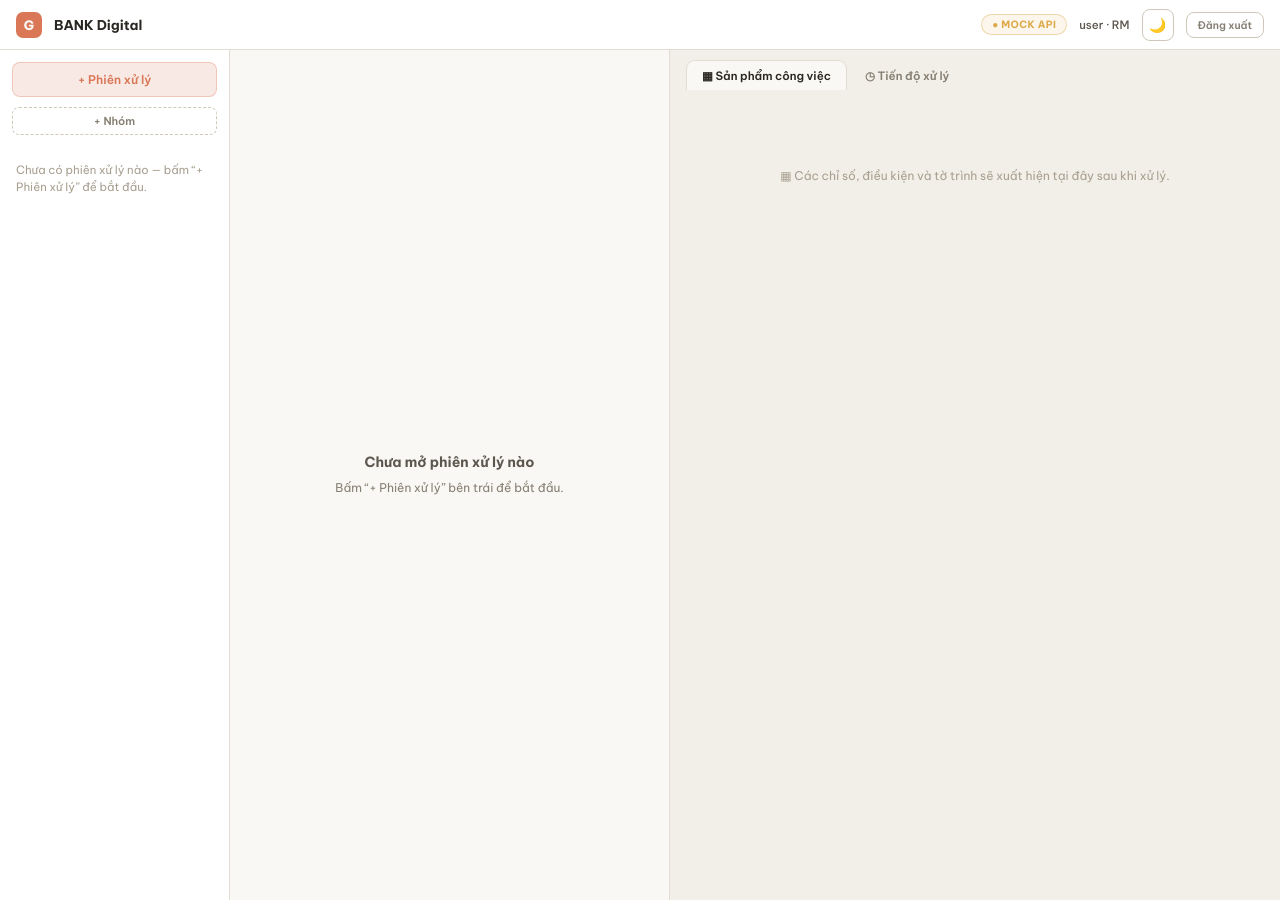
Scenario: Workspace chat — vòng lõi S1 (mock API) › bước tổng hợp fail → lỗi nghiệp vụ + trạng thái "Lỗi", không lộ lỗi runtime
Click the button "+ Phiên xử lý": (114, 80) [12,62,217,97]
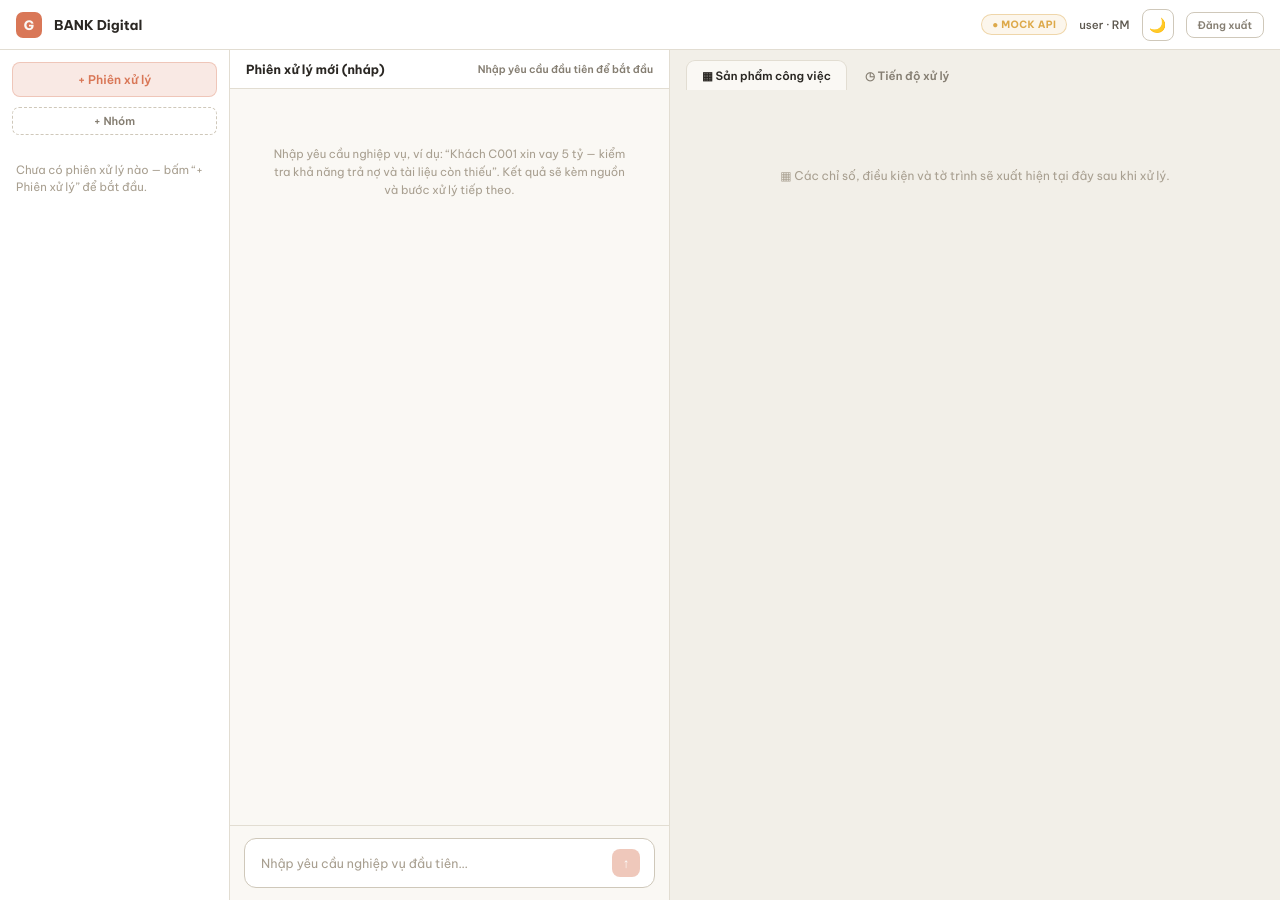
In the field named "Ô nhập câu hỏi": (430, 863) [259,854,602,872], type "lỗi main mô phỏng quá tải"
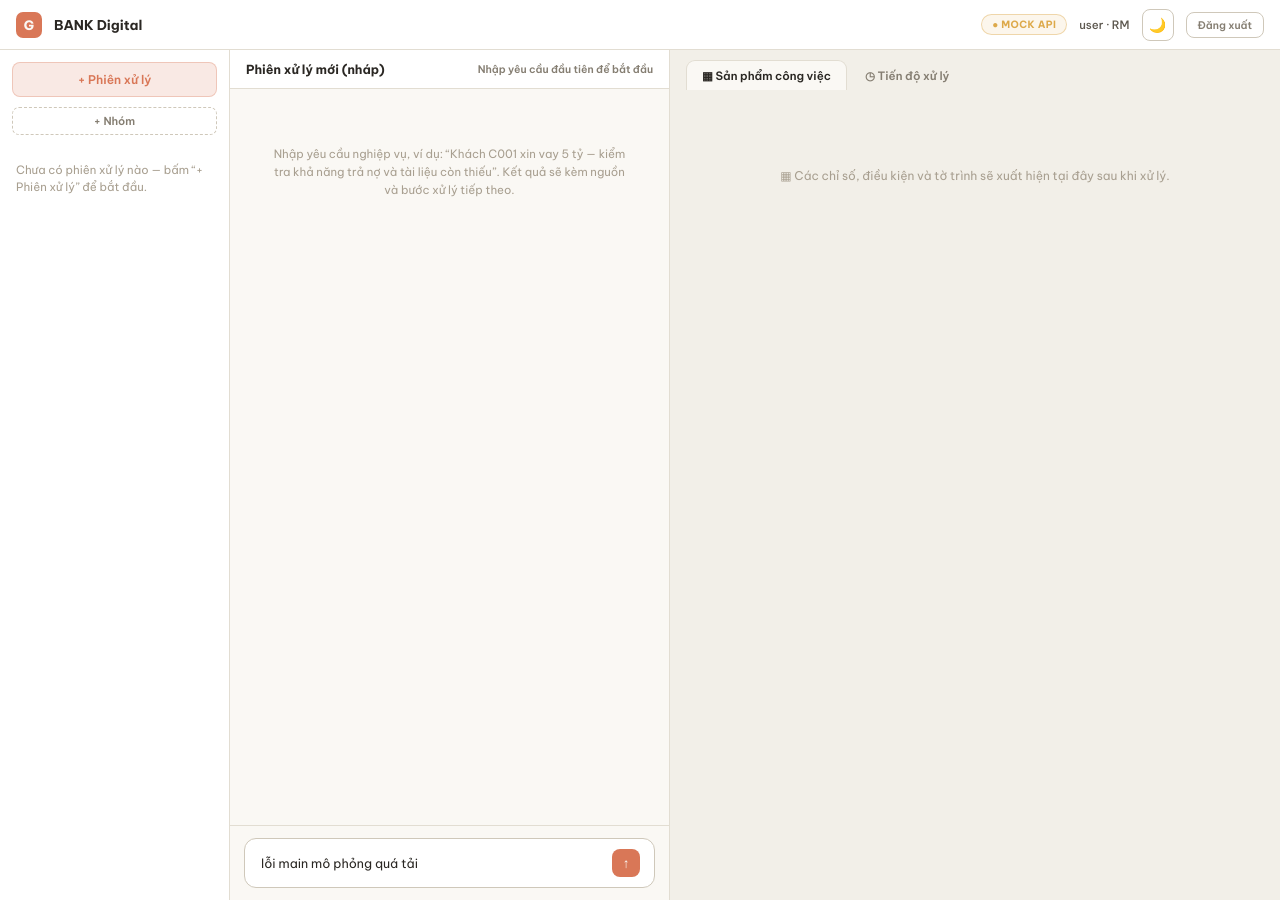
Press Enter in the field named "Ô nhập câu hỏi", box [259,854,602,872]
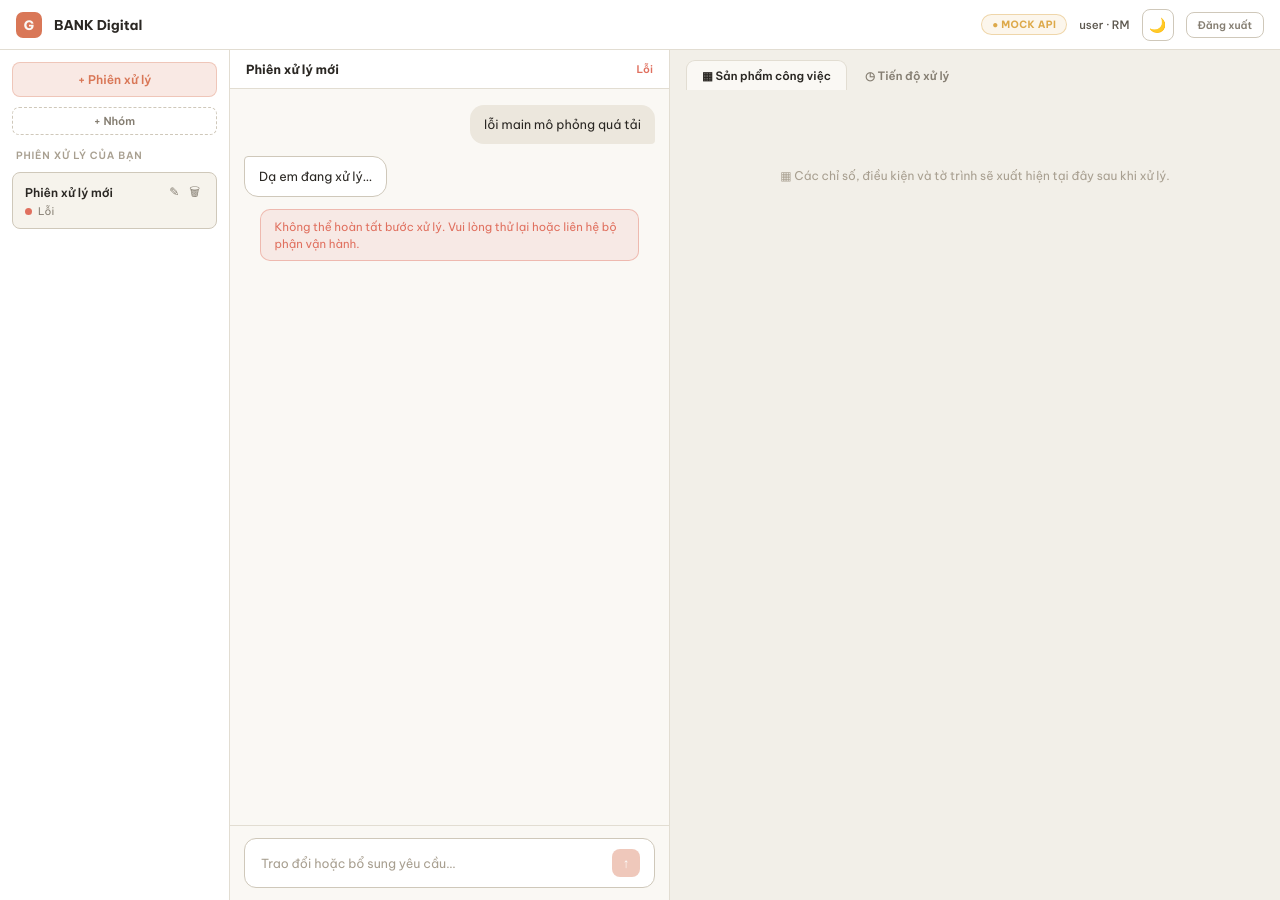
Check: the text "Không thể hoàn tất bước xử lý" is shown, box [274,218,619,251]
Check: the text "Lỗi" is shown, box [25,204,54,218]
